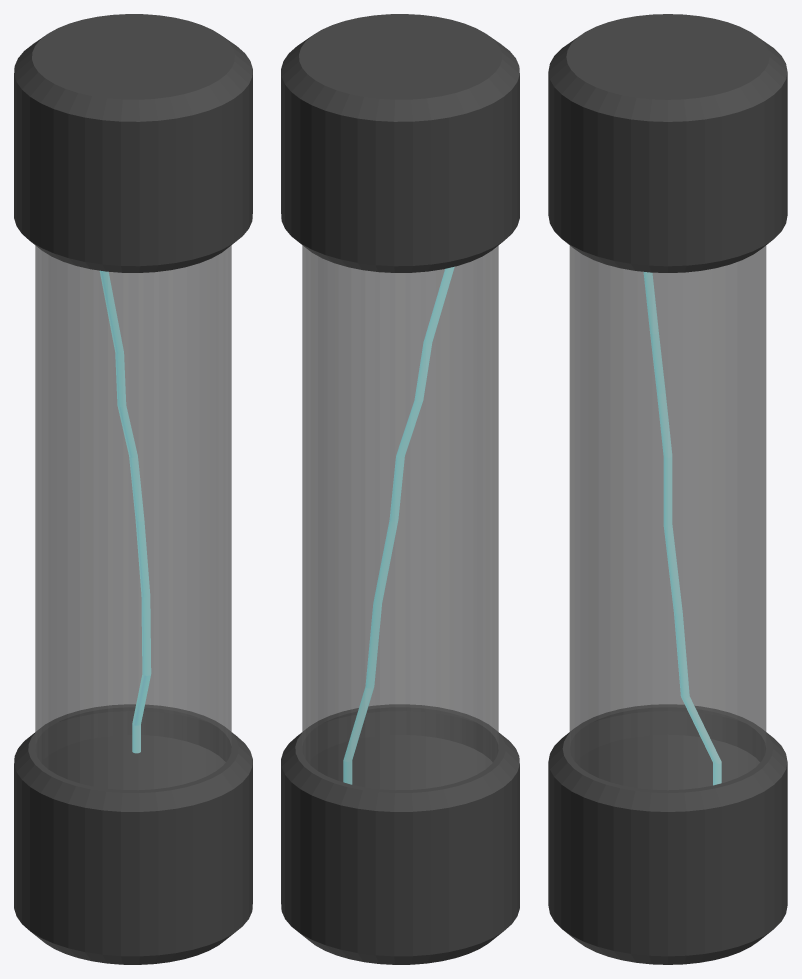
File: Fuse.glb
3 views of the same model, side by side, from view 1: azimuth 30°, elevation 25°; view 2: azimuth 150°, elevation 25°; view 3: azimuth 270°, elevation 25° (orthographic).
Visible parts, largest first — view 1: Cylinder; view 2: Cylinder; view 3: Cylinder.
Part boxes in pixels (box(x1,y1,x2,y2)): Cylinder: box(14, 14, 252, 964); Cylinder: box(281, 14, 519, 964); Cylinder: box(548, 14, 787, 964).
Bounding box in the file's own units: 0.005 × 0.02 × 0.005.
